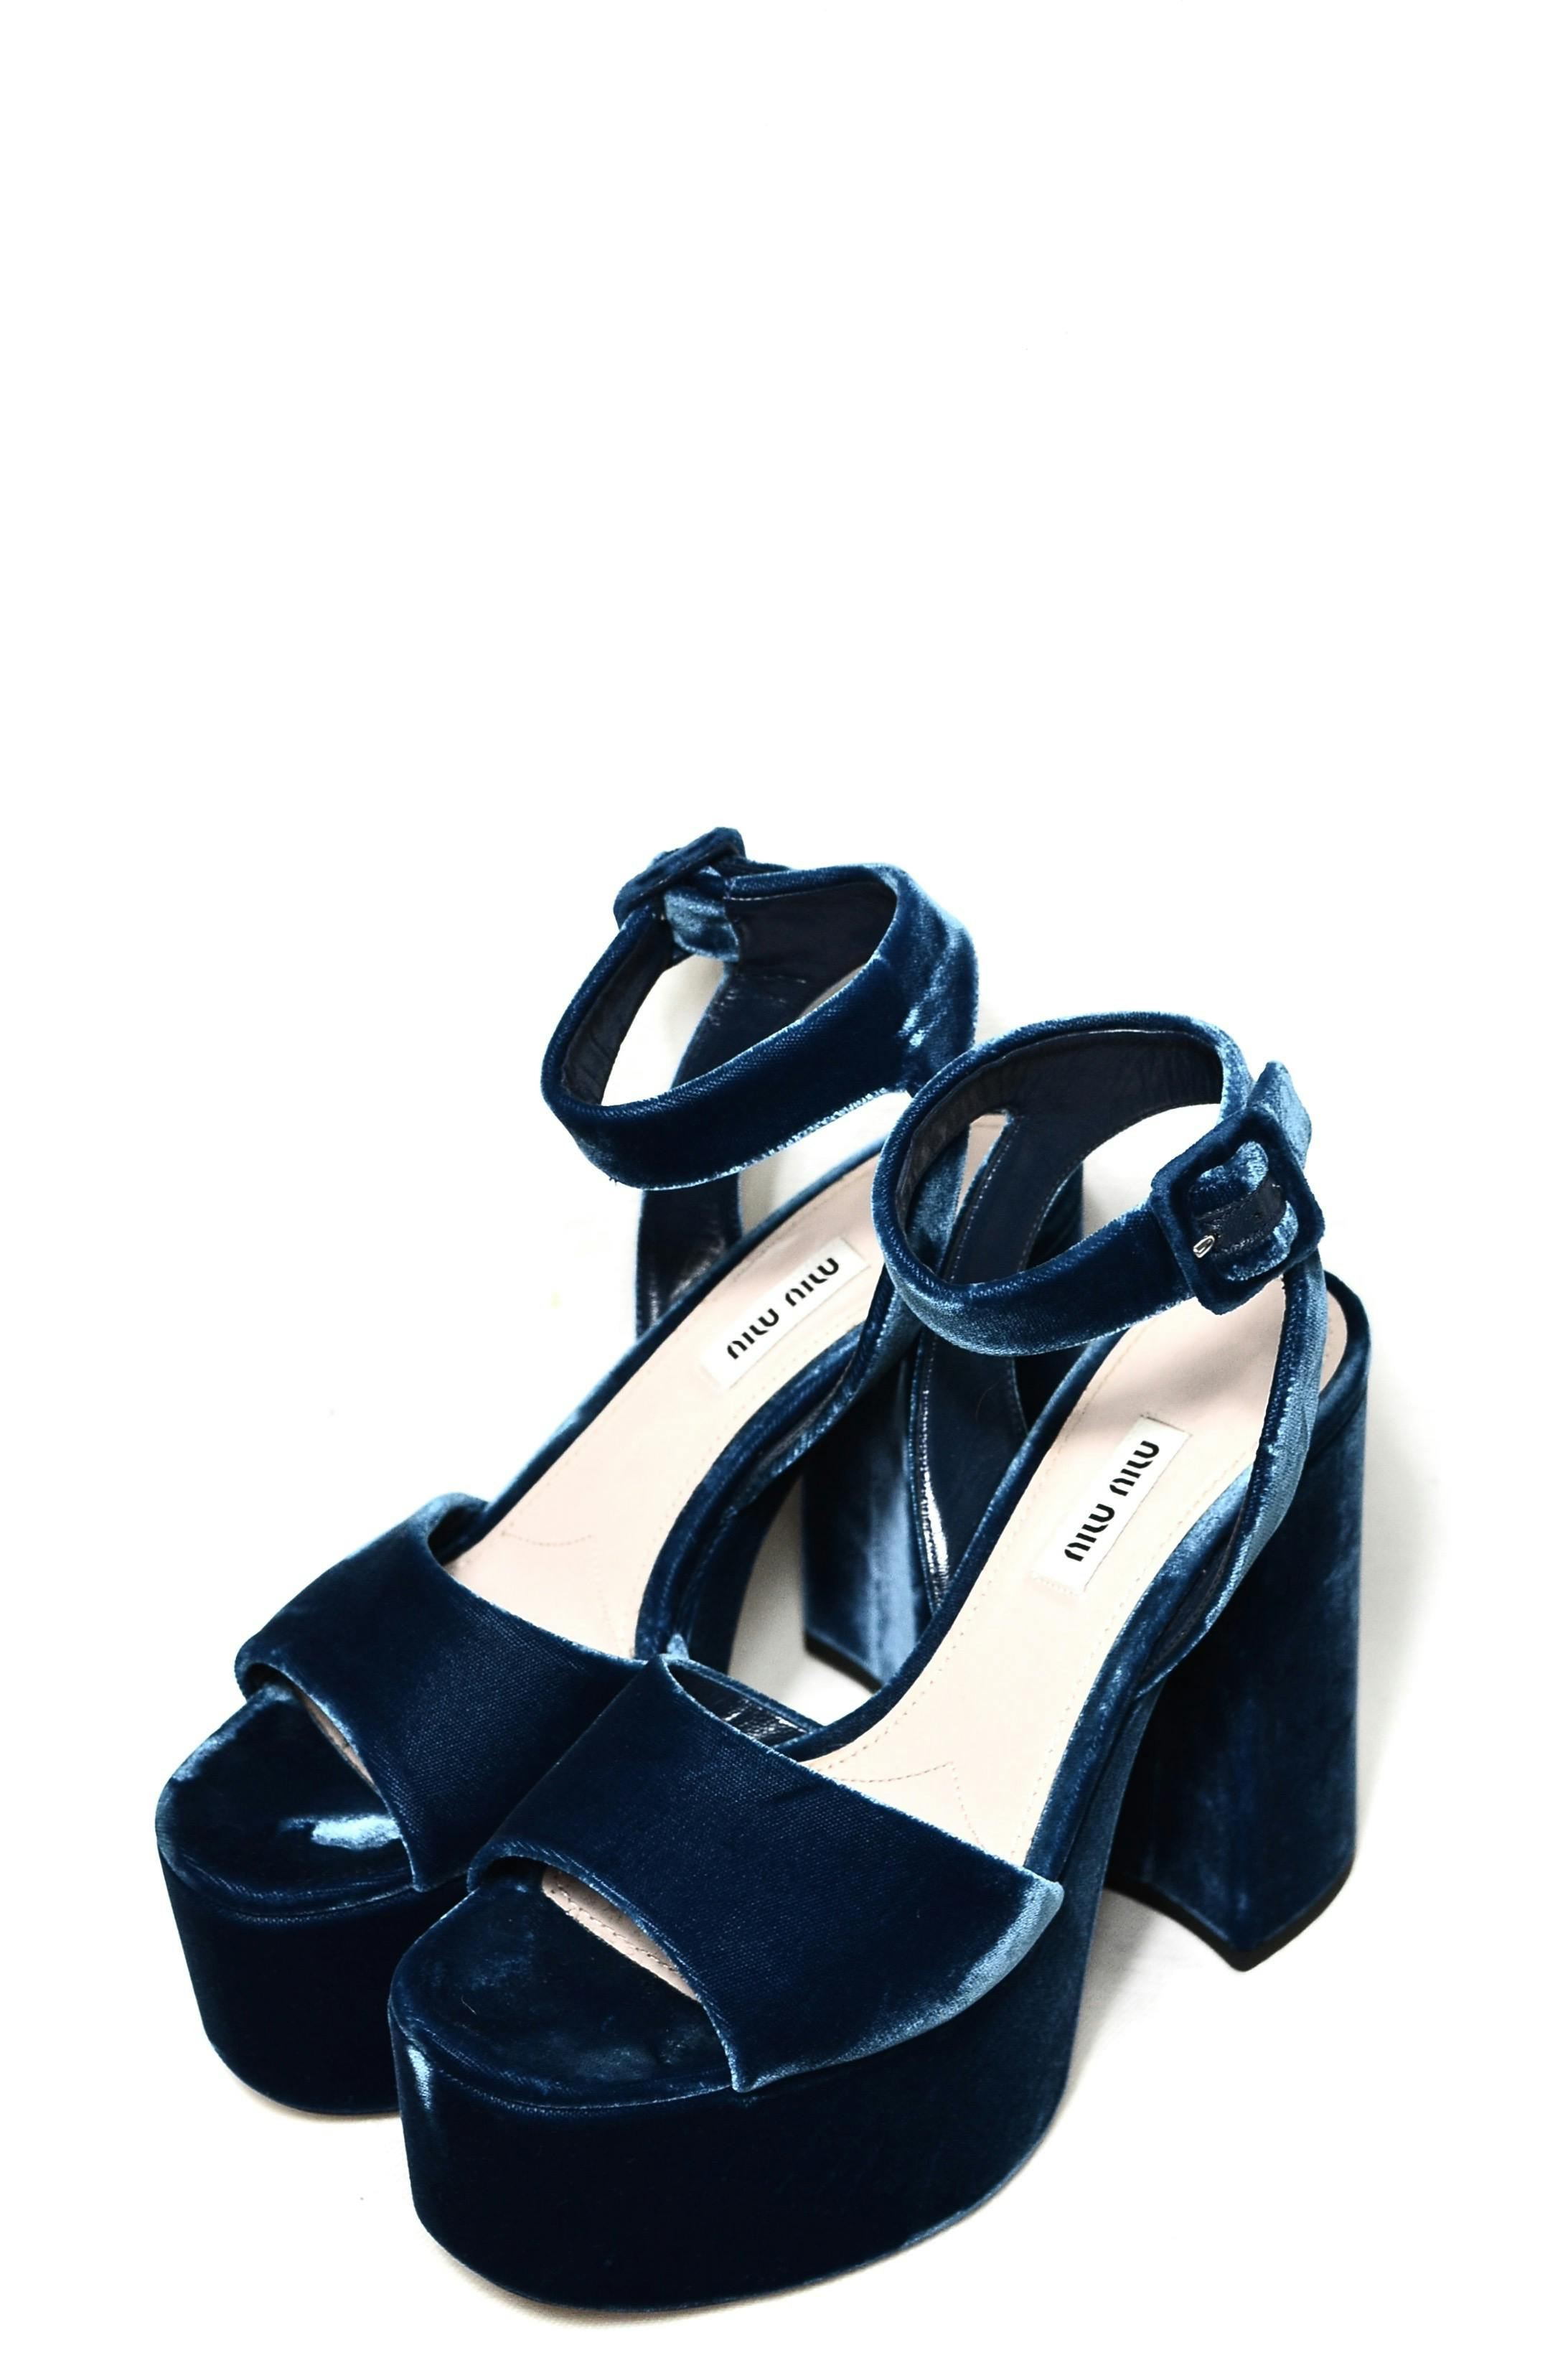Footwear: (115, 779, 1388, 2317)
